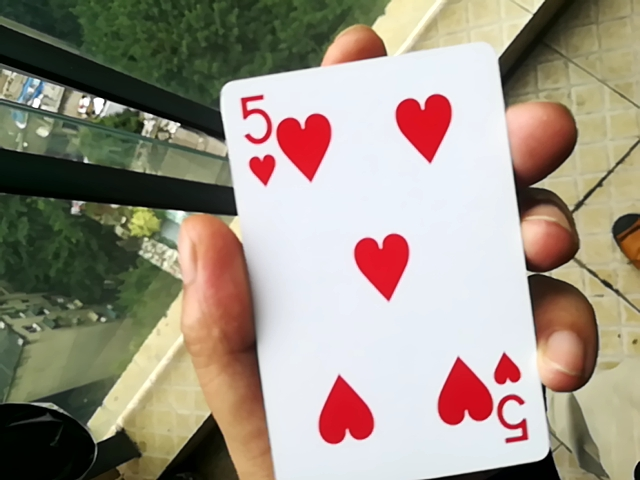hx 5: (204, 48, 551, 480)
